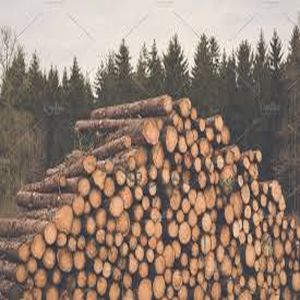log: (53, 203, 74, 234), (141, 119, 160, 147), (218, 166, 236, 195), (161, 125, 178, 155), (56, 247, 74, 273), (29, 233, 47, 259), (41, 247, 58, 272), (88, 186, 105, 210), (107, 195, 124, 219), (113, 212, 129, 236), (151, 145, 166, 170), (71, 194, 86, 219), (177, 222, 193, 245), (152, 275, 167, 299), (33, 268, 51, 288), (90, 169, 106, 191), (136, 278, 152, 300), (118, 186, 133, 209), (43, 222, 57, 246), (200, 212, 214, 235), (101, 177, 116, 198), (167, 189, 182, 210), (15, 241, 30, 262), (23, 285, 44, 300), (82, 154, 97, 174), (76, 177, 91, 197), (230, 192, 242, 217), (93, 208, 108, 228), (163, 245, 175, 270), (198, 136, 211, 159), (205, 187, 218, 210), (194, 192, 207, 214), (135, 148, 149, 168), (270, 180, 282, 203), (219, 255, 231, 278), (262, 234, 273, 259), (218, 225, 231, 246), (272, 240, 285, 261), (95, 276, 108, 297), (15, 262, 28, 283), (61, 272, 77, 289), (209, 282, 224, 300), (178, 98, 192, 117), (73, 251, 87, 270), (6, 284, 22, 300), (199, 234, 211, 255), (171, 269, 183, 290), (25, 256, 39, 274), (69, 217, 82, 236), (132, 204, 145, 223), (76, 270, 89, 289), (239, 184, 251, 204), (171, 241, 183, 261), (154, 256, 166, 276), (85, 239, 97, 259), (129, 221, 143, 238), (108, 283, 122, 300), (210, 170, 223, 188), (83, 216, 96, 234), (121, 272, 134, 290), (50, 269, 63, 287), (177, 134, 189, 153), (107, 246, 119, 265), (146, 164, 160, 180), (137, 262, 151, 278), (114, 169, 127, 186), (224, 204, 234, 226), (167, 220, 178, 240), (128, 253, 138, 275), (132, 184, 144, 202), (203, 156, 215, 174), (196, 172, 208, 190), (152, 222, 164, 240), (278, 268, 288, 289), (213, 114, 224, 133), (220, 127, 231, 146), (254, 257, 267, 273), (154, 239, 167, 255), (134, 247, 147, 263), (193, 284, 206, 300), (45, 287, 61, 300), (161, 95, 173, 112), (118, 241, 130, 258), (98, 245, 110, 262), (187, 209, 198, 227), (144, 220, 155, 238), (291, 272, 300, 294), (104, 218, 117, 233), (116, 257, 129, 272), (163, 207, 175, 223), (244, 244, 256, 260), (178, 252, 190, 268), (177, 284, 189, 300), (66, 237, 78, 253), (228, 239, 238, 258), (204, 126, 215, 143), (103, 159, 114, 176), (147, 180, 158, 197), (102, 263, 113, 280), (93, 258, 104, 275), (76, 235, 87, 252), (88, 272, 99, 289), (113, 233, 126, 247), (111, 268, 124, 282), (185, 130, 195, 148), (171, 170, 181, 188), (250, 179, 260, 197), (151, 195, 163, 210), (191, 225, 201, 243), (189, 258, 199, 276), (56, 233, 68, 248), (71, 288, 86, 300), (126, 156, 137, 172), (180, 197, 191, 213), (256, 272, 267, 288), (190, 243, 201, 259), (162, 268, 173, 284), (242, 217, 251, 236), (188, 189, 198, 206), (242, 204, 252, 221), (265, 258, 275, 275), (93, 230, 106, 243), (120, 288, 134, 300), (231, 145, 242, 160), (175, 209, 186, 224), (205, 254, 216, 269), (231, 220, 240, 238), (285, 240, 294, 258), (248, 276, 257, 294), (215, 245, 224, 263), (226, 149, 236, 165), (180, 269, 190, 285), (121, 136, 133, 149), (149, 209, 161, 222), (209, 269, 222, 281), (248, 164, 259, 178), (267, 202, 278, 216), (128, 237, 139, 251), (85, 289, 99, 300), (183, 153, 192, 170), (216, 155, 225, 172), (192, 157, 202, 172), (254, 149, 264, 164), (271, 225, 281, 240), (145, 248, 155, 263), (191, 142, 200, 158), (161, 168, 170, 184), (171, 152, 182, 165), (287, 260, 300, 271), (196, 257, 207, 270), (165, 286, 176, 299), (246, 149, 256, 163), (215, 197, 225, 211), (253, 226, 263, 240), (254, 239, 262, 256), (278, 197, 287, 212), (259, 194, 268, 209), (141, 197, 150, 212), (272, 275, 281, 290), (226, 280, 235, 295), (235, 174, 245, 187), (241, 156, 250, 170), (251, 199, 260, 213), (252, 213, 261, 227), (139, 236, 150, 247), (198, 118, 206, 133), (196, 272, 206, 284), (148, 237, 158, 249), (238, 233, 247, 246), (215, 132, 223, 146), (171, 113, 179, 127), (261, 181, 269, 195), (181, 182, 190, 194), (269, 291, 281, 300), (232, 254, 241, 266), (190, 108, 198, 121), (184, 119, 192, 132), (274, 213, 282, 226), (289, 217, 297, 230), (279, 229, 287, 242), (275, 262, 283, 275), (266, 215, 275, 226), (262, 220, 269, 234), (246, 232, 254, 244), (281, 219, 289, 230), (287, 230, 295, 241), (239, 275, 246, 287)
